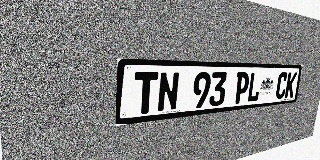3: (209, 72, 227, 107)
9: (192, 72, 212, 109)
C: (275, 72, 288, 99)
K: (284, 72, 297, 98)
L: (246, 72, 262, 103)
N: (157, 72, 180, 112)
P: (233, 72, 250, 104)
T: (133, 72, 158, 115)
